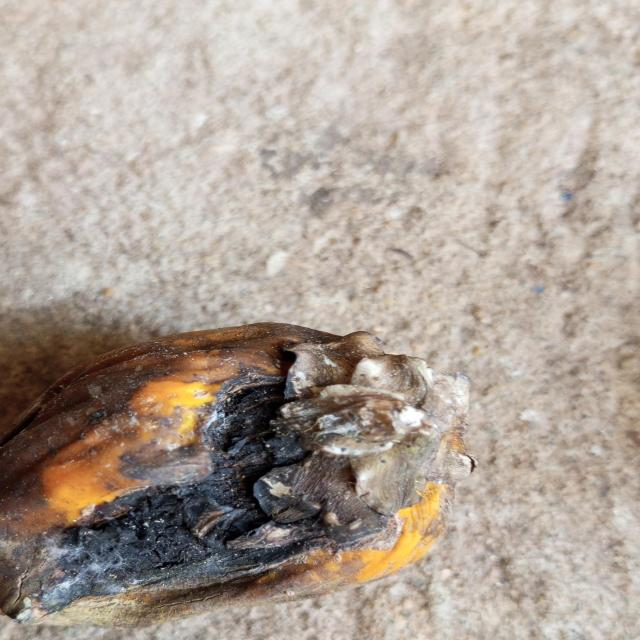damaged: (0, 324, 475, 625)
